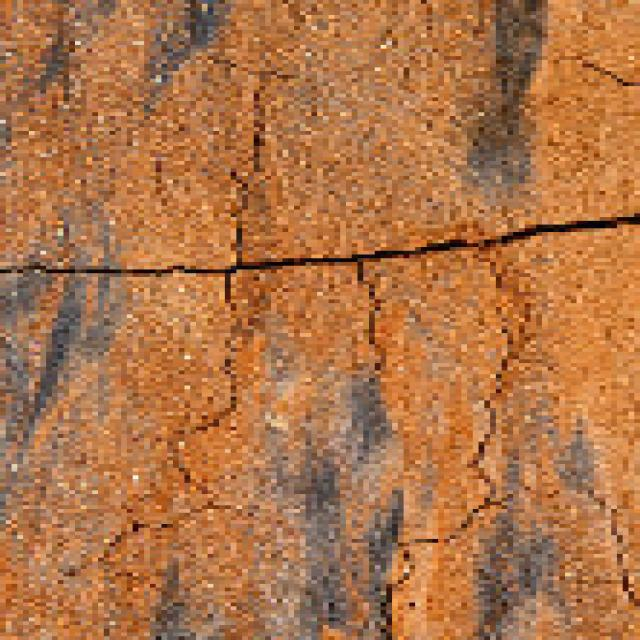branched cracks: (0, 181, 639, 349), (386, 356, 513, 639), (101, 359, 258, 560)
